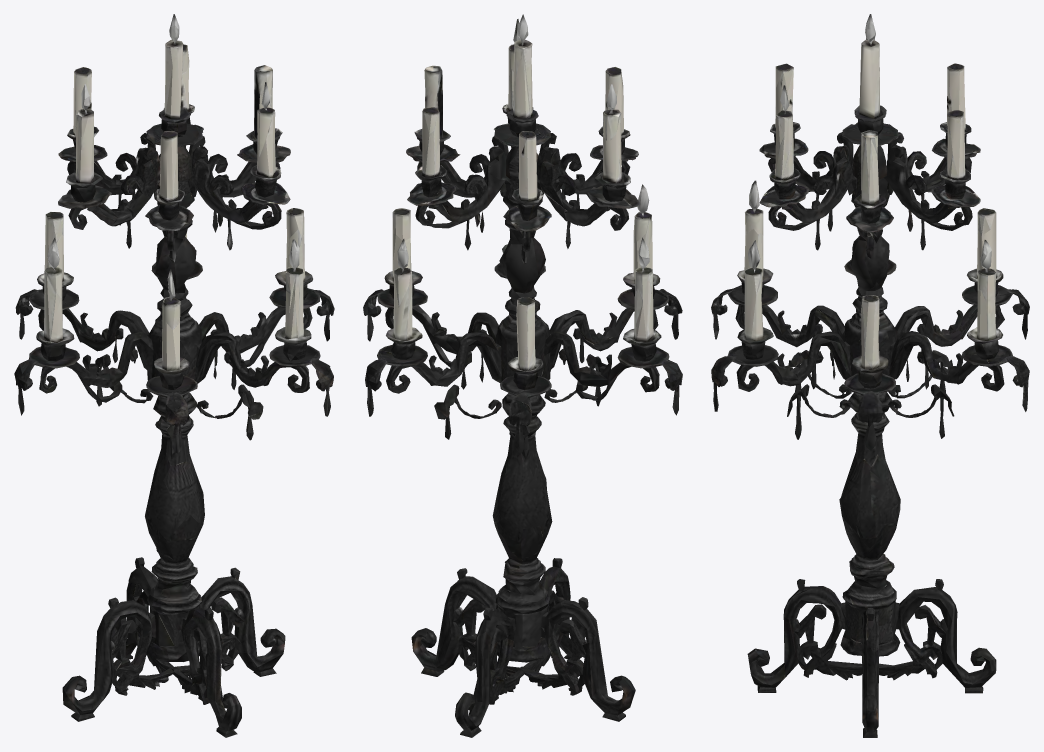
Rendered from mx_pr_candle_stand.glb.
The picture shows the model from 3 angles, left to right: view 1: azimuth 30°, elevation 25°; view 2: azimuth 150°, elevation 25°; view 3: azimuth 270°, elevation 25°; orthographic projection.
Bounding box in the file's own units: 0.9158 × 1.9 × 0.813.
1 material, 1 textured.
